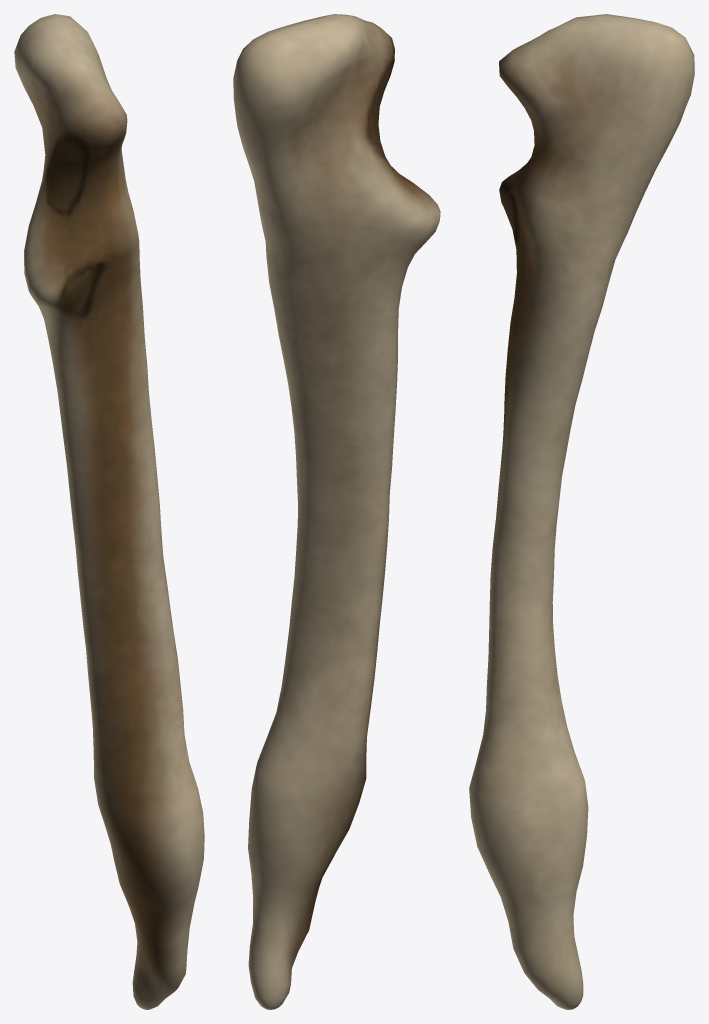
File: Ulna.glb
3 views of the same model, side by side, from view 1: azimuth 30°, elevation 25°; view 2: azimuth 150°, elevation 25°; view 3: azimuth 270°, elevation 25° (orthographic). The views are drawn at different scales.
Visible parts, largest first — view 1: polySurface1; view 2: polySurface1; view 3: polySurface1.
Boxes of the visible parts, left/top/right/bottom form: polySurface1: left=14, top=14, right=204, bottom=1009; polySurface1: left=233, top=14, right=440, bottom=1009; polySurface1: left=469, top=14, right=694, bottom=1009.
Bounding box in the file's own units: 23.85 × 135 × 28.68.
Materials: 1 (1 with a texture image).
